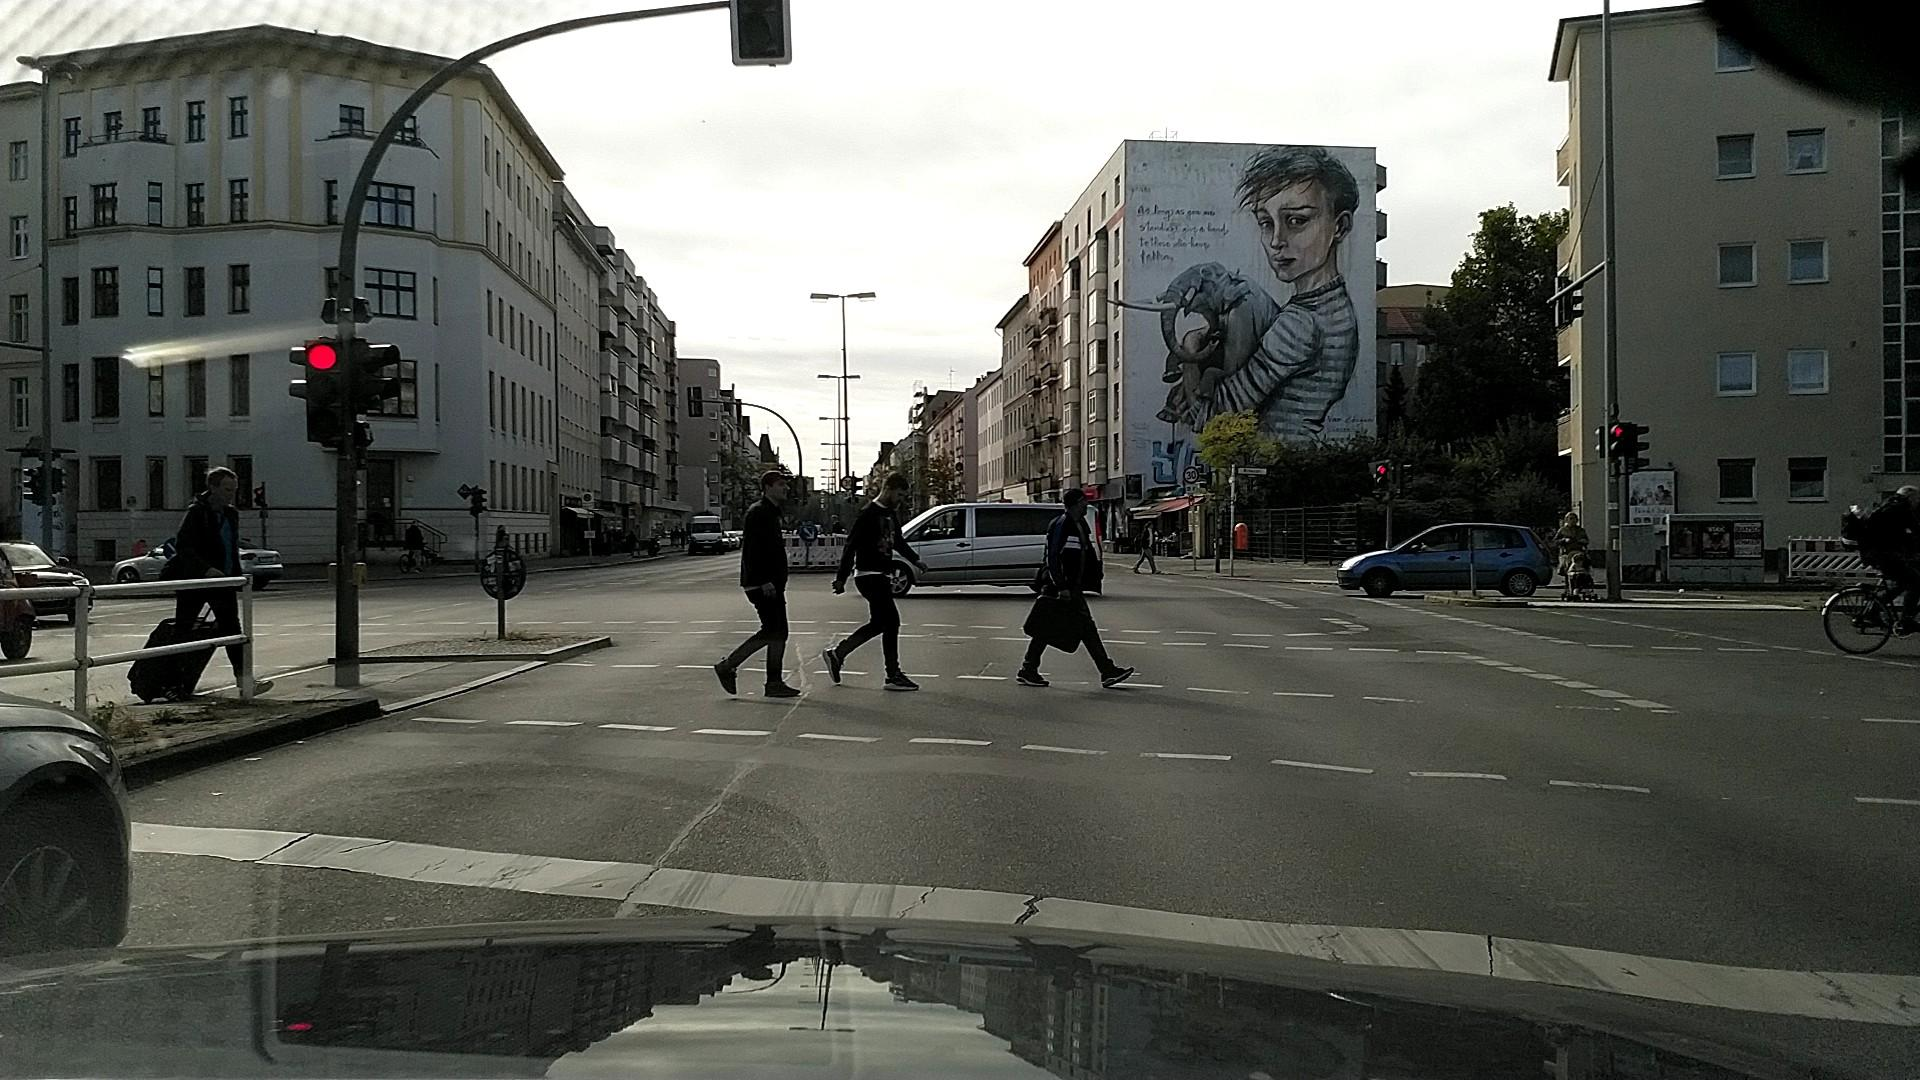Human face: (1248, 152, 1355, 283), (204, 467, 240, 507), (879, 472, 910, 507), (758, 471, 790, 503), (1064, 491, 1089, 518), (1564, 513, 1579, 526), (1441, 531, 1456, 543), (950, 517, 959, 529), (1573, 556, 1583, 566), (1145, 521, 1153, 529)
